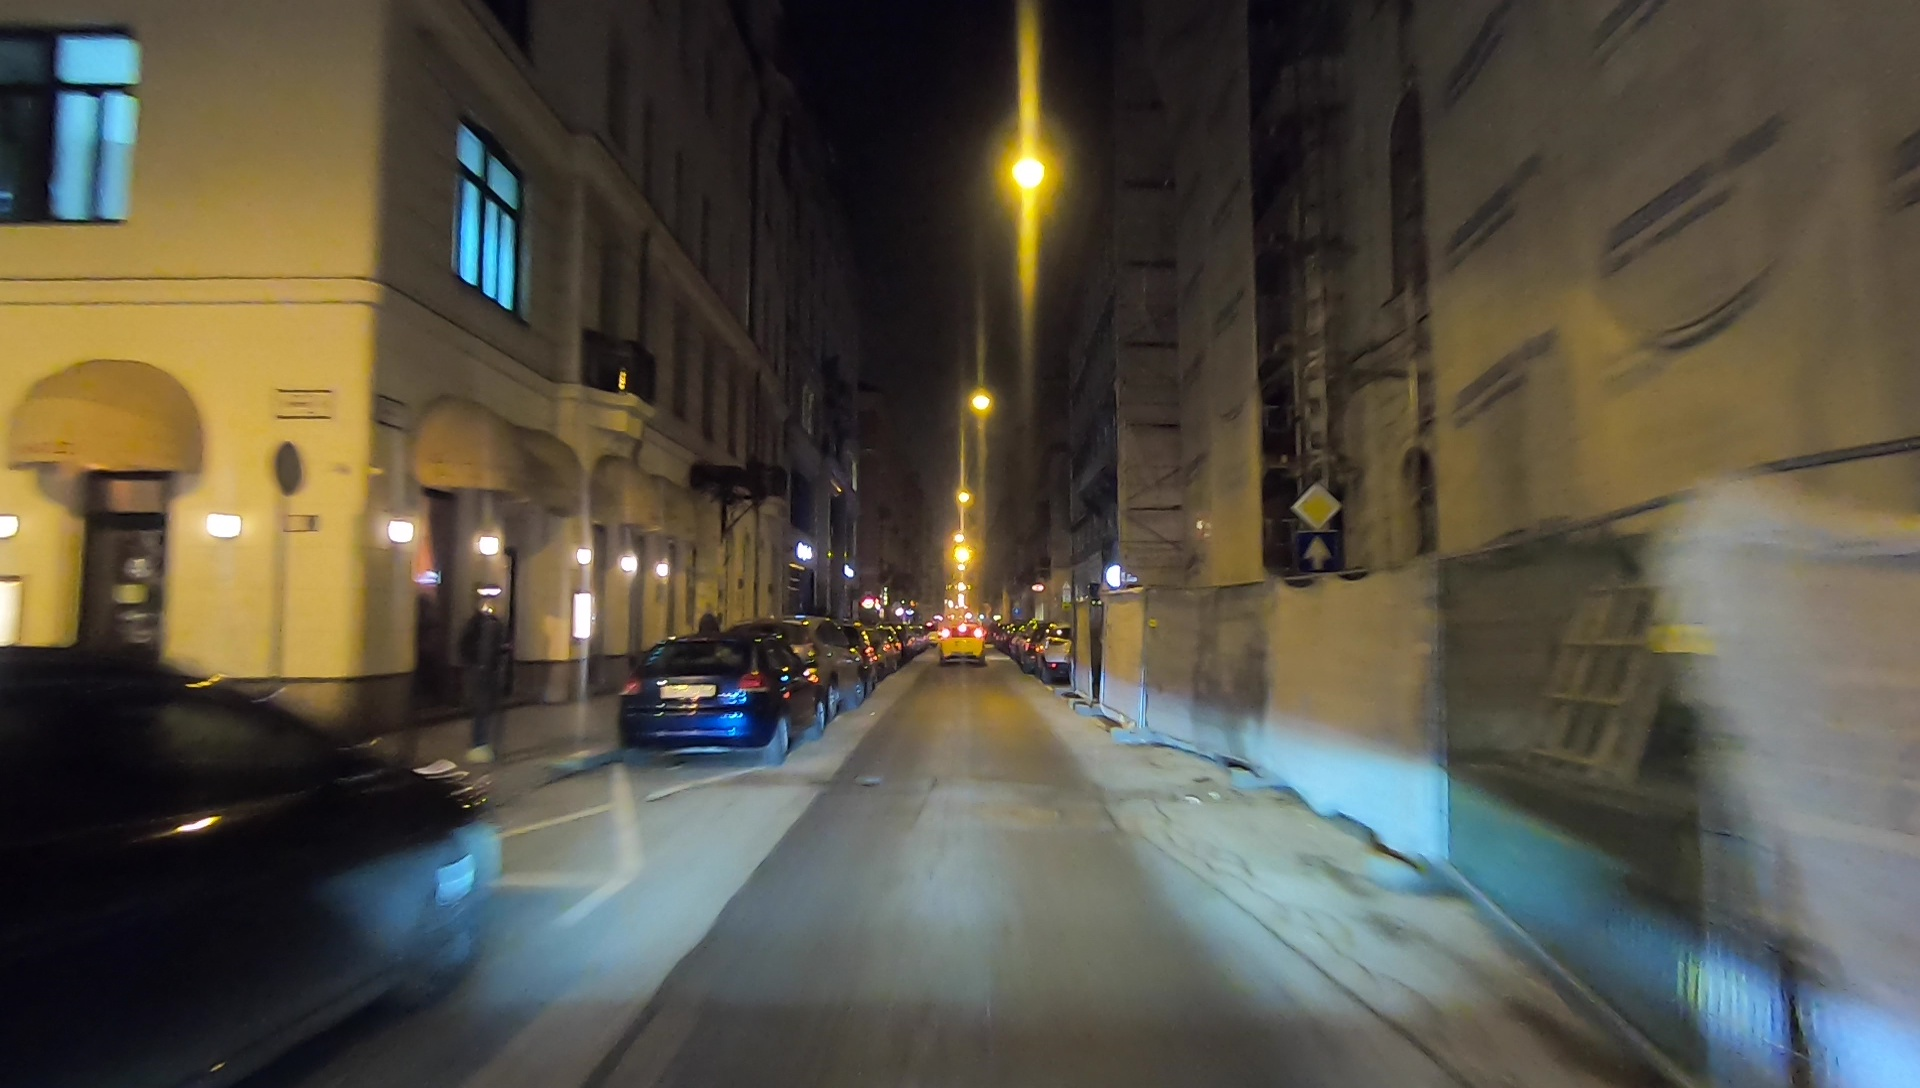person: (460, 604, 515, 765)
